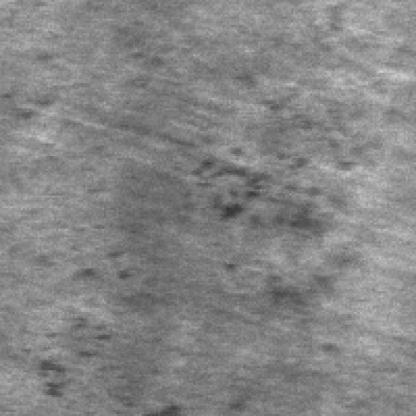rolled-in_scale: (192, 106, 368, 287), (42, 252, 137, 404)
